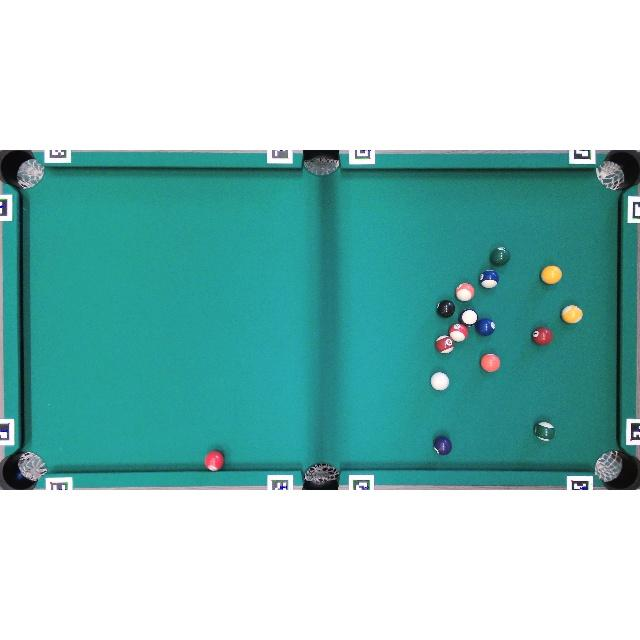cue ball: (430, 372, 449, 390)
other: (534, 421, 555, 441), (532, 326, 552, 346), (490, 246, 510, 266), (561, 305, 583, 323), (480, 353, 500, 372), (459, 308, 478, 328), (435, 335, 455, 354), (205, 451, 224, 471), (541, 266, 562, 284), (449, 323, 468, 342), (433, 436, 452, 455), (476, 318, 496, 336), (479, 270, 499, 288), (436, 300, 455, 318), (456, 283, 474, 301)
